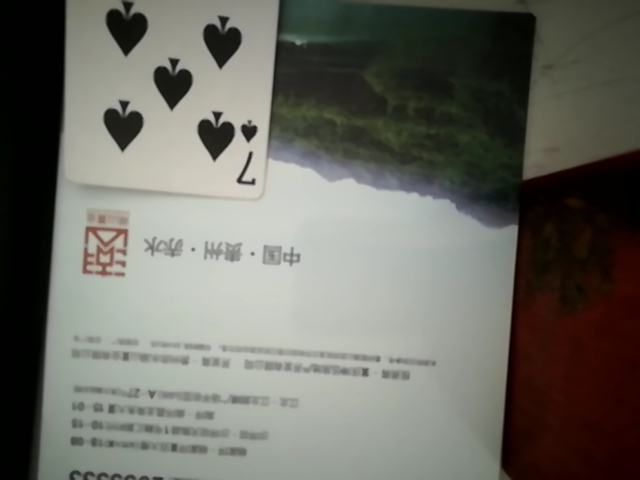ht 7: (60, 0, 282, 206)
